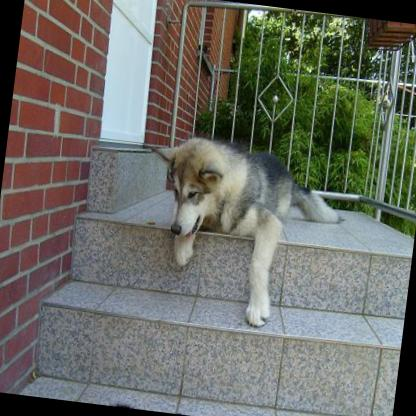malamute: (132, 129, 352, 335)
